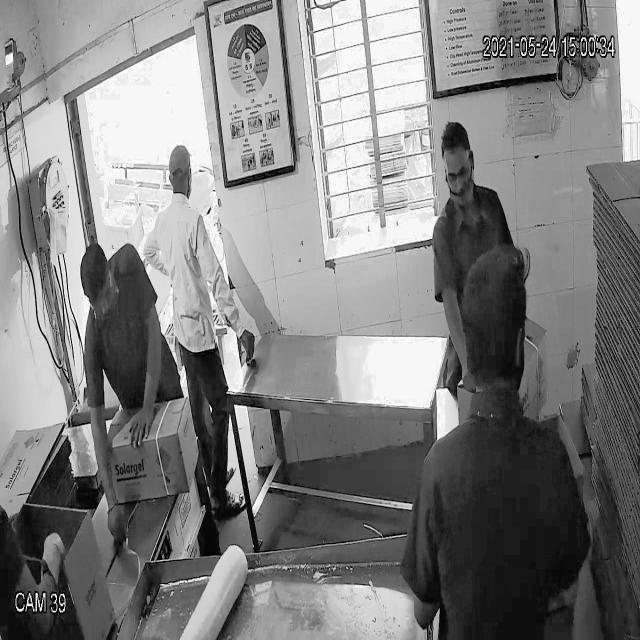glasses: (440, 156, 474, 193)
